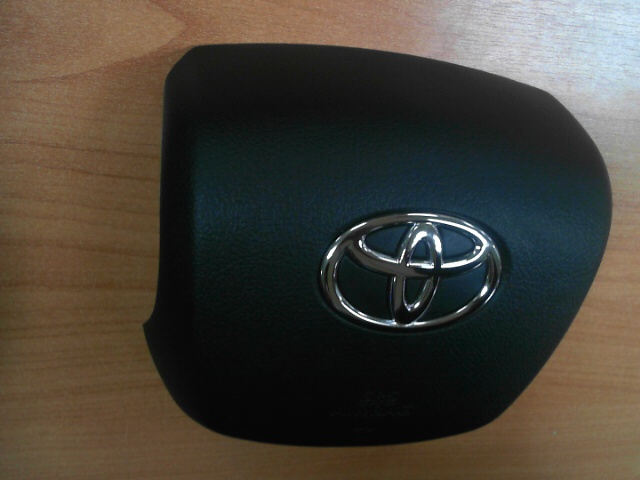Airbag: (139, 40, 616, 449)
